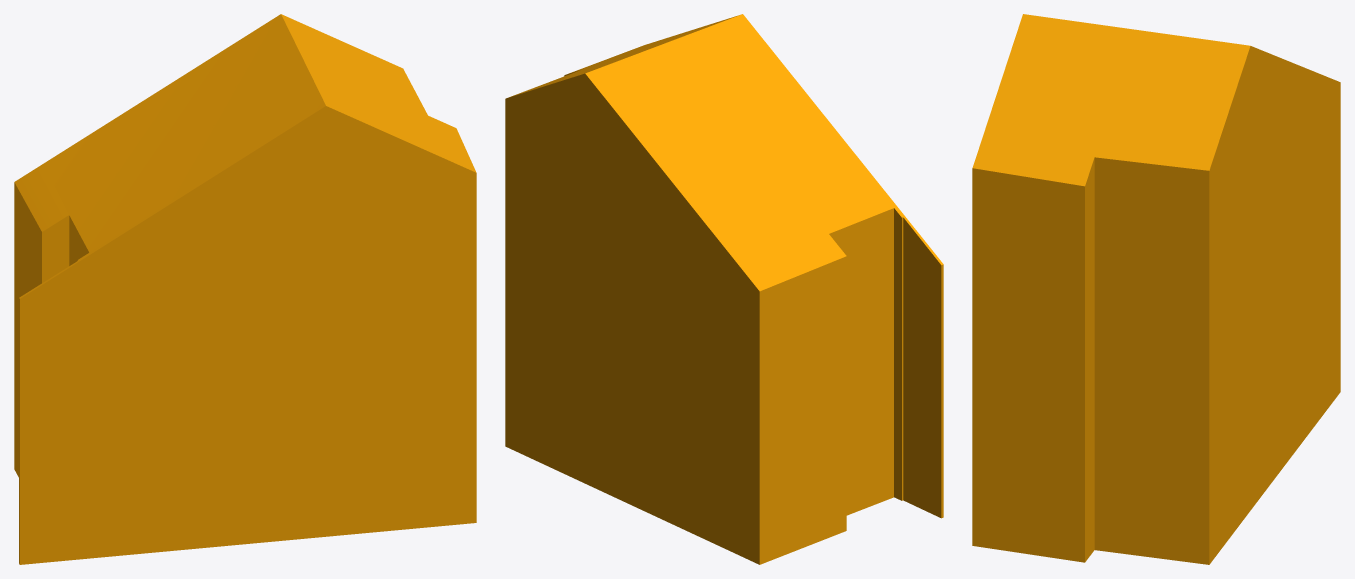
Rendered from DEHB01ALn0001OSW.gltf.
3 renders of one model, left to right at view 1: azimuth 30°, elevation 25°; view 2: azimuth 150°, elevation 25°; view 3: azimuth 270°, elevation 25°, orthographic. The views are drawn at different scales.
Parts seen in each view (by area): view 1: Z_UP; view 2: Z_UP; view 3: Z_UP.
Part boxes in pixels (x1,y1,x2,y2): Z_UP: (14,14,476,564); Z_UP: (505,14,943,564); Z_UP: (972,14,1340,564).
Size of the model in its own units: 13.28 by 12.96 by 9.3.
